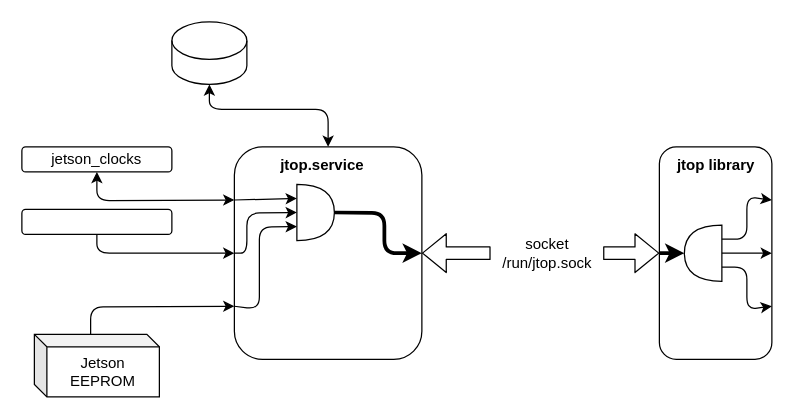
Image size: 804x419. Some labels were removed from this diagram. The shapes that lost their labels are listed below. From the top down, each one's box as (x1, y1, x2, y2) in pixels, then its label:
(171, 21, 247, 84): config
(21, 208, 172, 234): tegrastats
